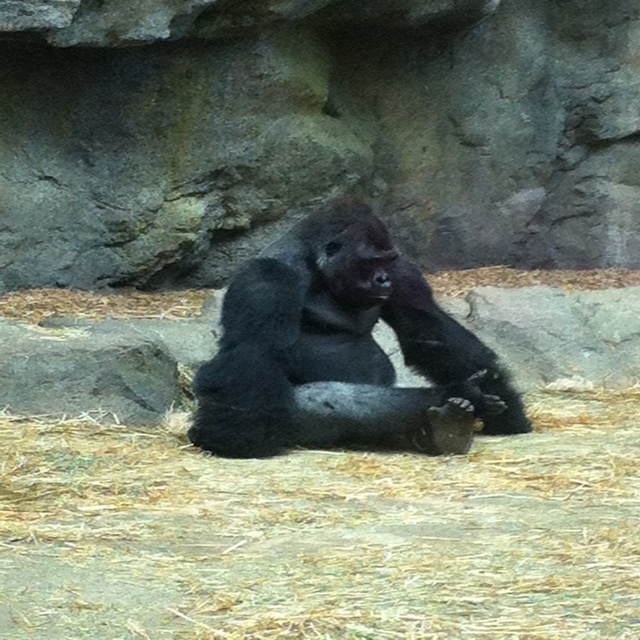Monkey: (193, 208, 544, 452)
